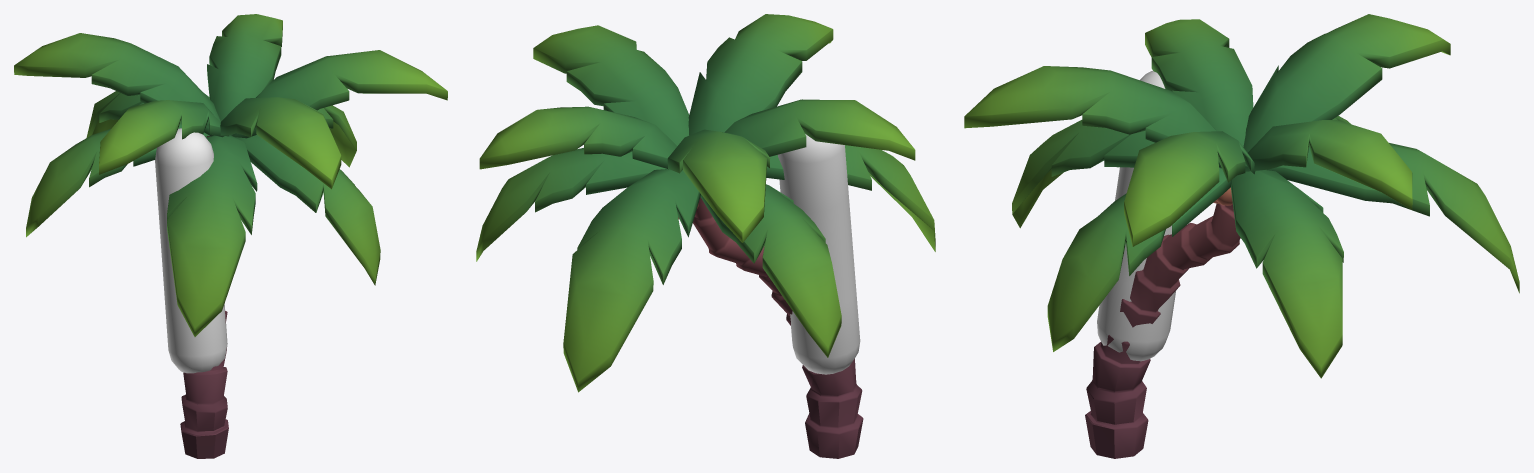
3 views of the same model, side by side, from view 1: azimuth 30°, elevation 25°; view 2: azimuth 150°, elevation 25°; view 3: azimuth 270°, elevation 25° (orthographic). The views are drawn at different scales.
Visible parts, largest first — view 1: Capsule, Boole; view 2: Capsule, Boole; view 3: Capsule, Boole.
Boxes of the visible parts, x1,y1,x2,y2 form: Capsule: [14, 14, 447, 404]; Boole: [180, 394, 228, 458]; Capsule: [476, 14, 935, 395]; Boole: [805, 384, 863, 458]; Capsule: [964, 14, 1519, 390]; Boole: [1085, 380, 1148, 458].
Size of what is drawn, in the model's own units: 652 by 623 by 751.
2 materials, 1 textured.
